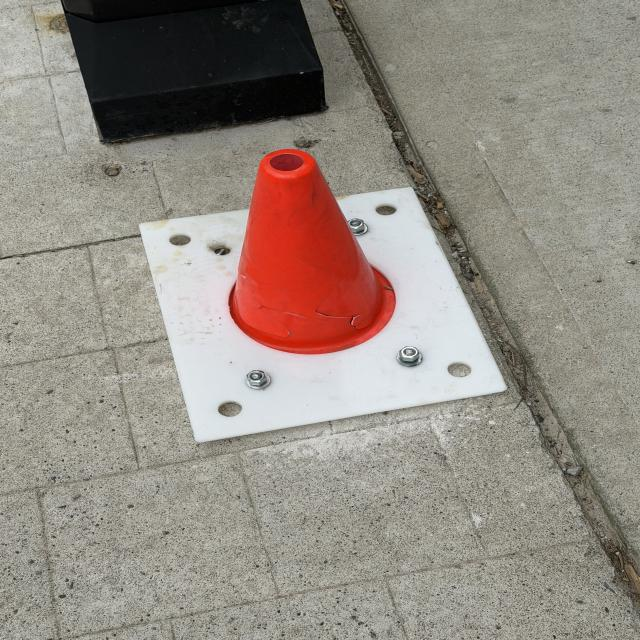Traffic Cone: (227, 146, 397, 357)
